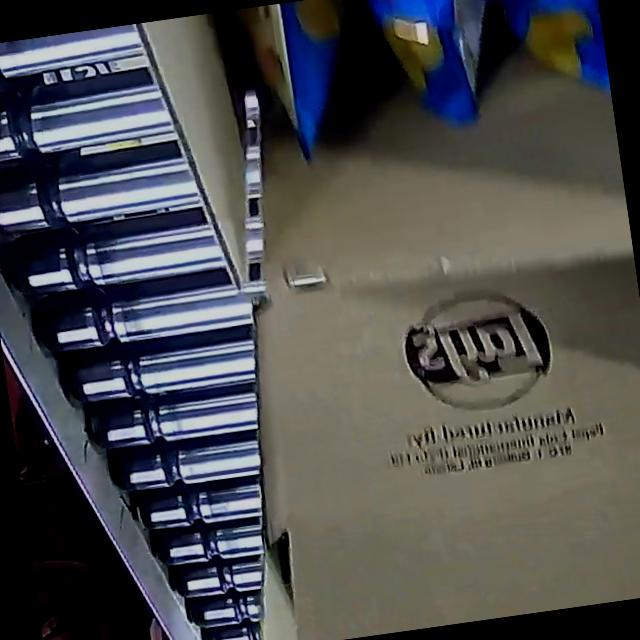paprika: (241, 0, 616, 180)
